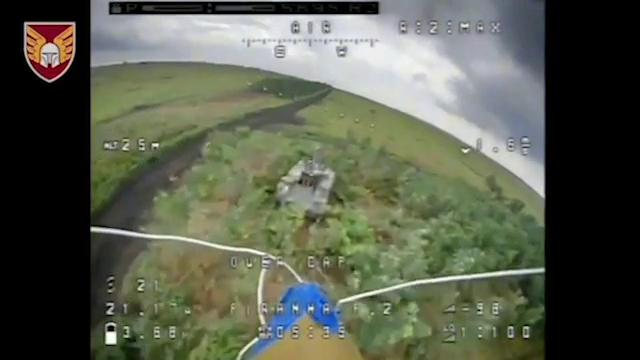tank: (272, 143, 337, 226)
